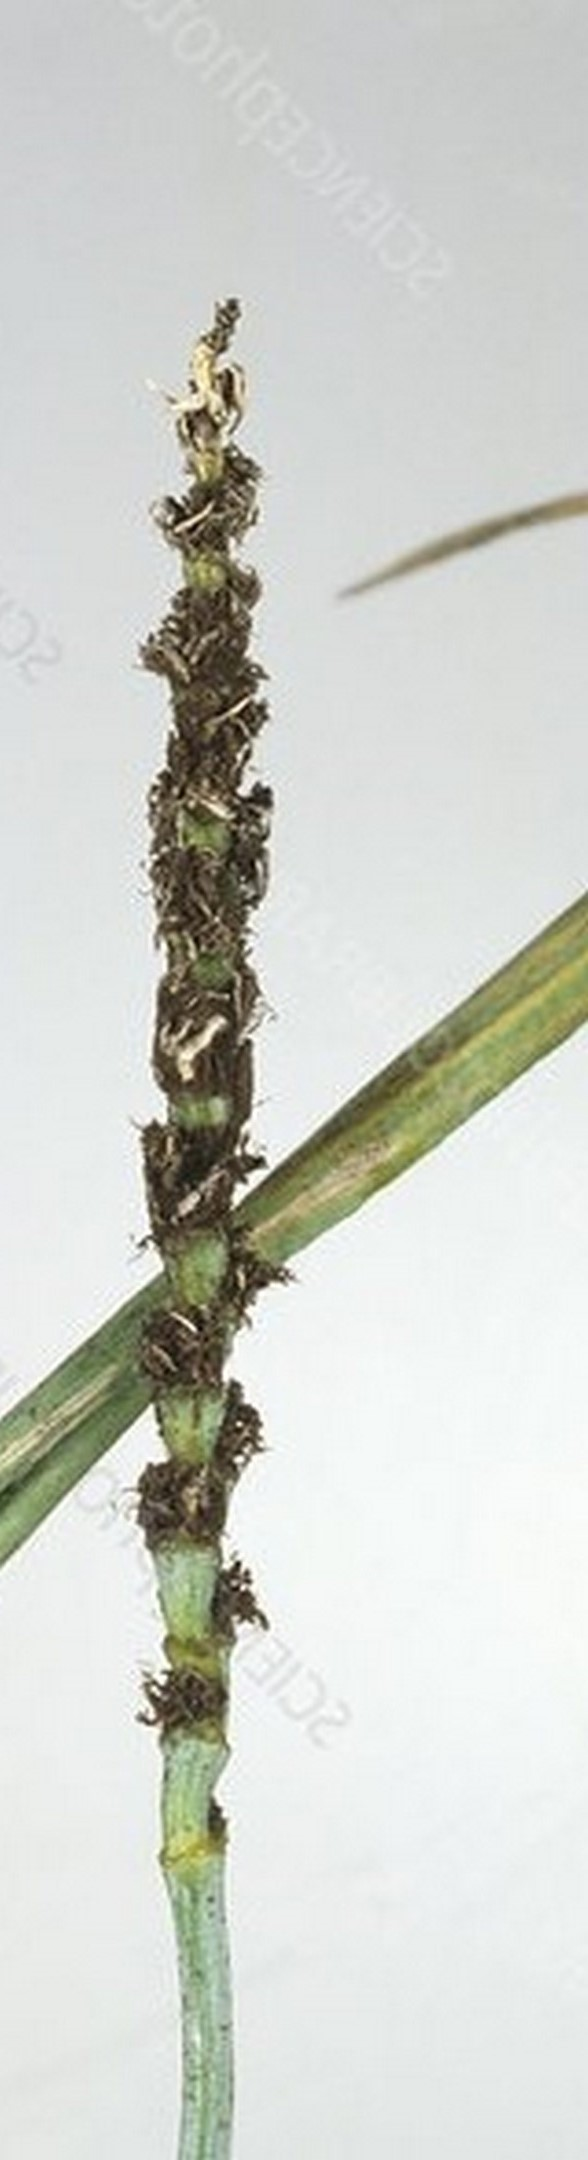Wheat Loose Smut: (107, 315, 314, 1743)
